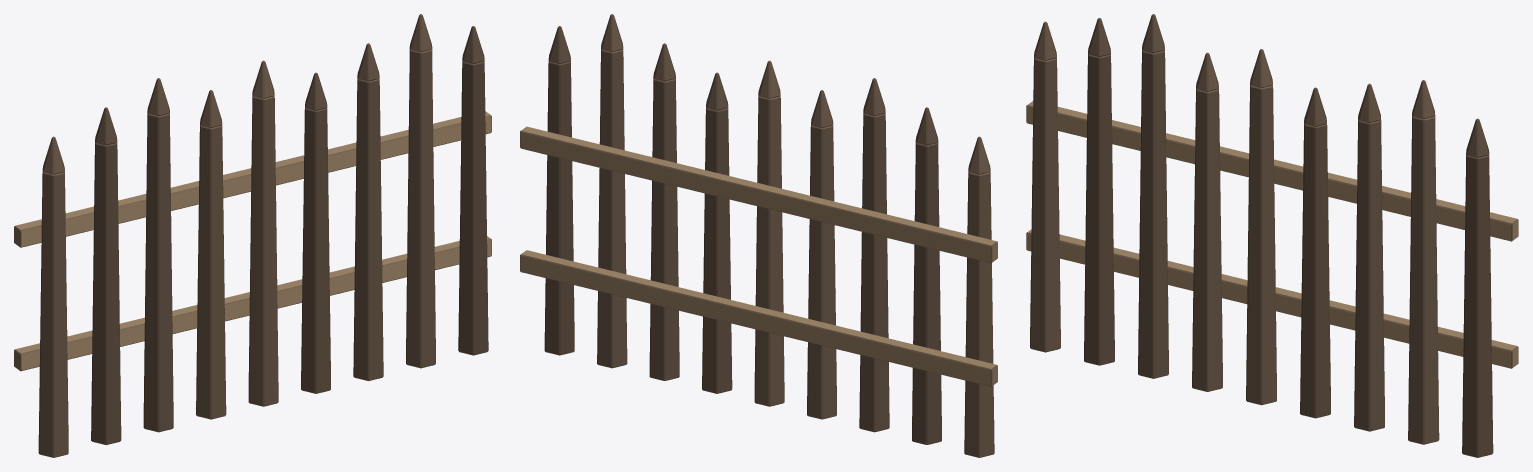
File: SM_Kit_palicada.fbx
3 views of the same model, side by side, from view 1: azimuth 30°, elevation 25°; view 2: azimuth 150°, elevation 25°; view 3: azimuth 330°, elevation 25° (orthographic). The views are drawn at different scales.
Parts seen in each view (by area): view 1: SM_Kit_palicada; view 2: SM_Kit_palicada; view 3: SM_Kit_palicada.
Part boxes in pixels (left/top/right/bottom): SM_Kit_palicada: left=14, top=14, right=491, bottom=457; SM_Kit_palicada: left=520, top=14, right=997, bottom=457; SM_Kit_palicada: left=1026, top=14, right=1518, bottom=457.
Size of what is drawn, in the model's own units: 360 by 253 by 28.45.
